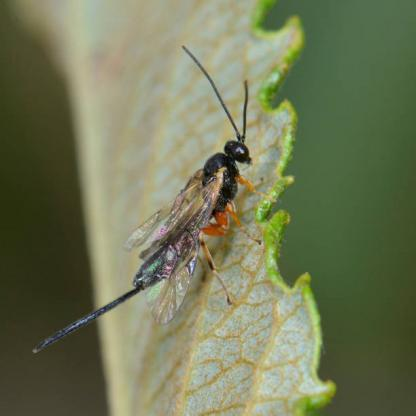sawfly: (30, 43, 260, 352)
